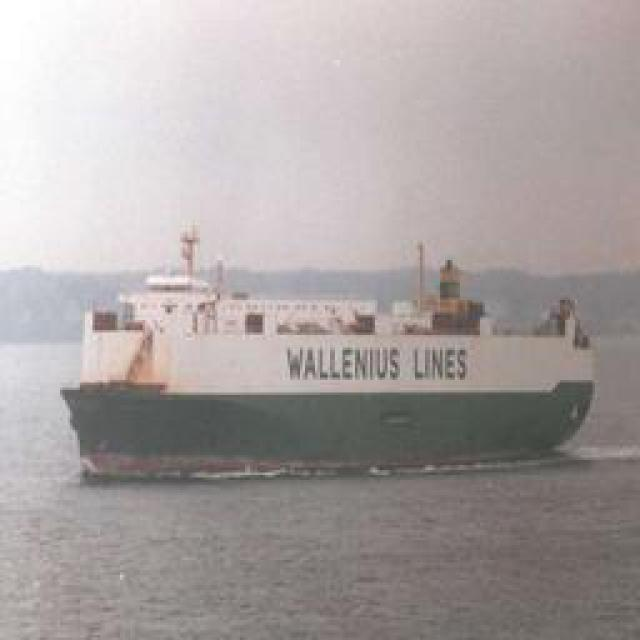Ship: (62, 231, 620, 476)
